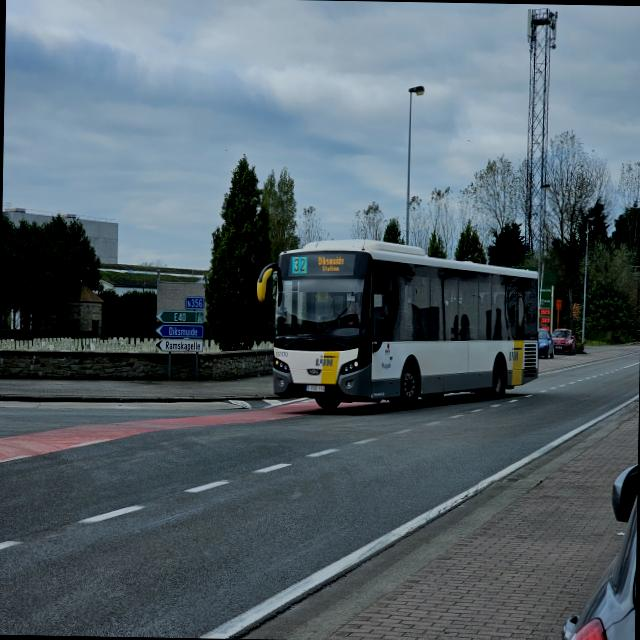bus-number: (292, 257, 307, 273)
